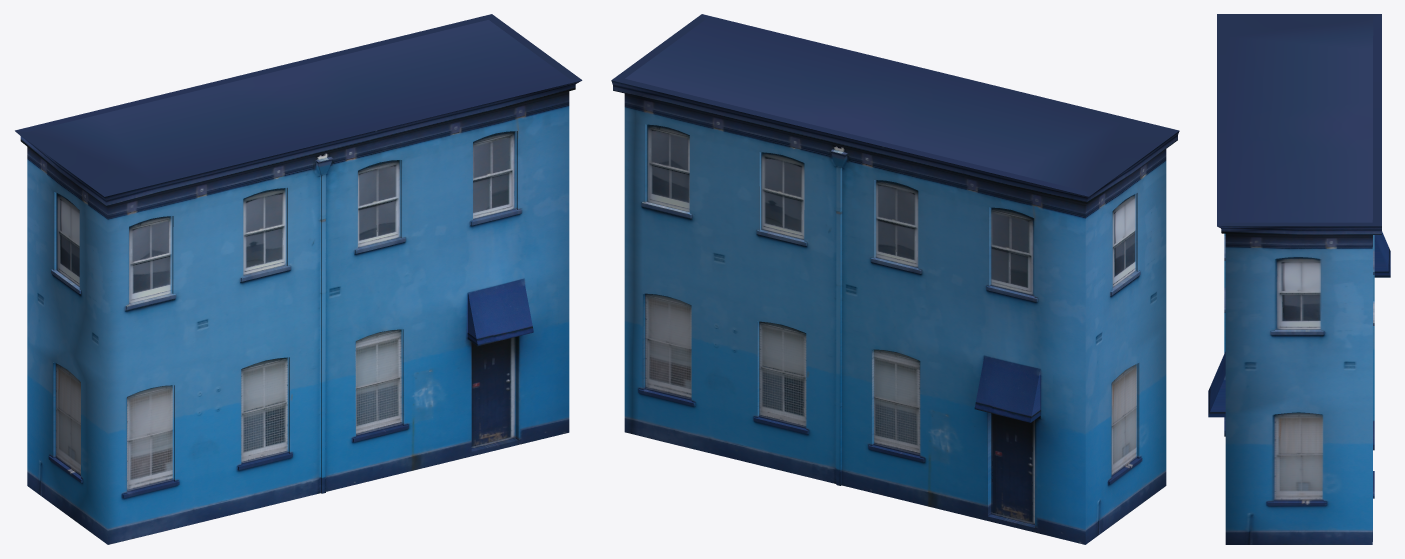
The model's file is blue.obj.
The picture shows the model from 3 angles, left to right: view 1: azimuth 30°, elevation 25°; view 2: azimuth 150°, elevation 25°; view 3: azimuth 270°, elevation 25°; orthographic projection. The views are drawn at different scales.
Visible parts, largest first — view 1: Plane01; view 2: Plane01; view 3: Plane01.
Boxes of the visible parts, x1=… form: Plane01: x1=15, y1=14, x2=582, y2=544; Plane01: x1=611, y1=14, x2=1179, y2=544; Plane01: x1=1208, y1=14, x2=1390, y2=544.
Bounding box in the file's own units: 2834 × 2004 × 1026.
Materials: 1 (1 with a texture image).
